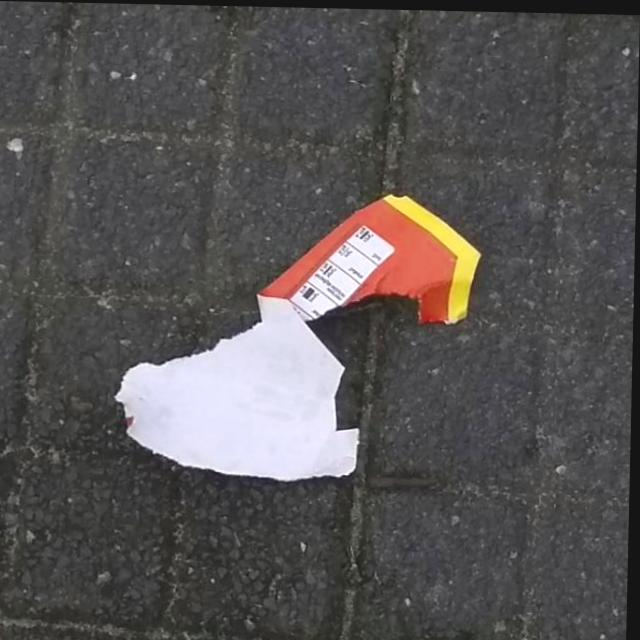Paper: (111, 181, 486, 485)
